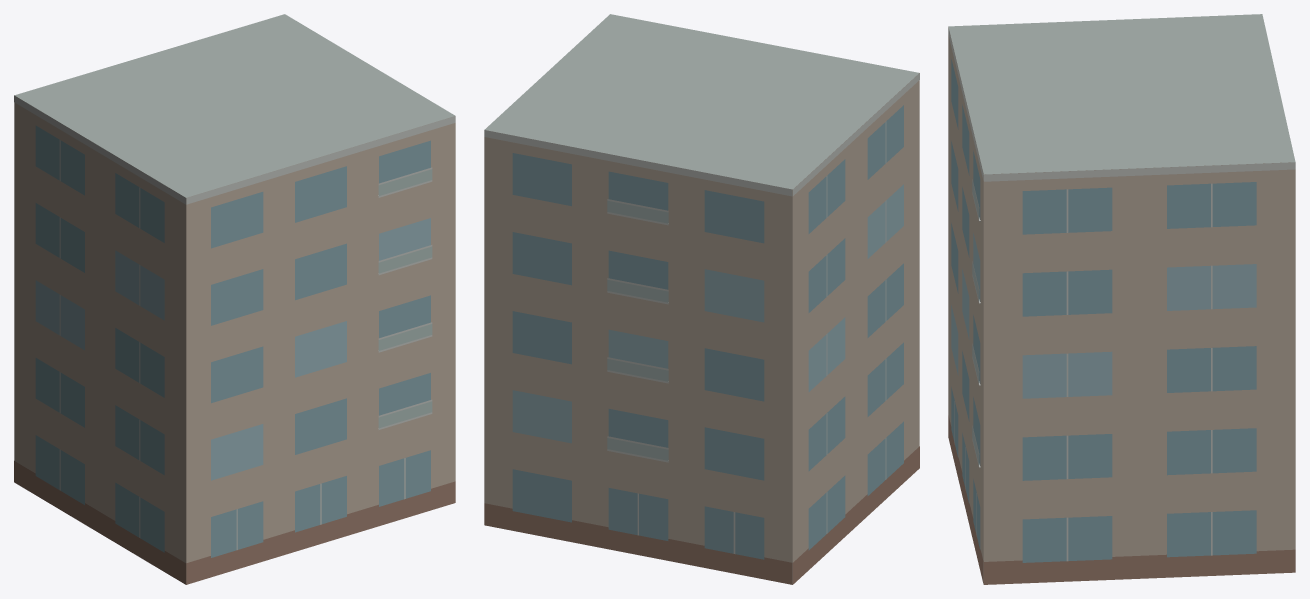
Rendered from survey-upis-32654463.glb.
3 renders of one model, left to right at view 1: azimuth 30°, elevation 25°; view 2: azimuth 150°, elevation 25°; view 3: azimuth 270°, elevation 25°, orthographic. The views are drawn at different scales.
Visible parts, largest first — view 1: survey-upis-32654463.tmp; view 2: survey-upis-32654463.tmp; view 3: survey-upis-32654463.tmp.
Part boxes in pixels (bbox=[...]): survey-upis-32654463.tmp: bbox=[14, 14, 455, 584]; survey-upis-32654463.tmp: bbox=[484, 14, 919, 584]; survey-upis-32654463.tmp: bbox=[948, 14, 1295, 584].
Bounding box in the file's own units: 11.5 × 13.7 × 10.52.
